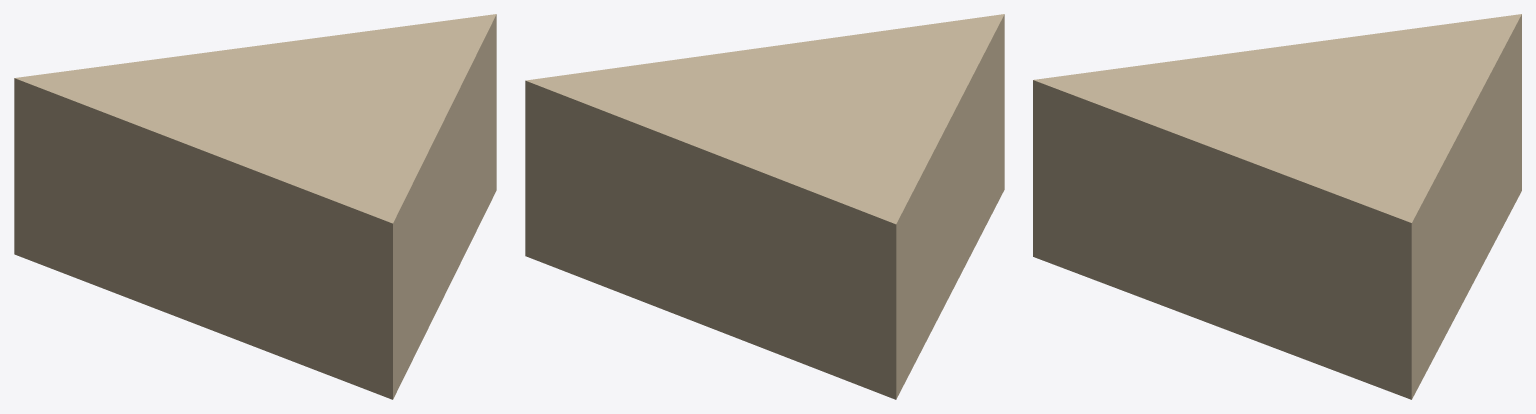
The model's file is -4_8-estimated-coarse.glb.
3 renders of one model, left to right at view 1: azimuth 30°, elevation 25°; view 2: azimuth 150°, elevation 25°; view 3: azimuth 270°, elevation 25°, orthographic.
Bounding box in the file's own units: 30.44 × 12 × 30.08.
